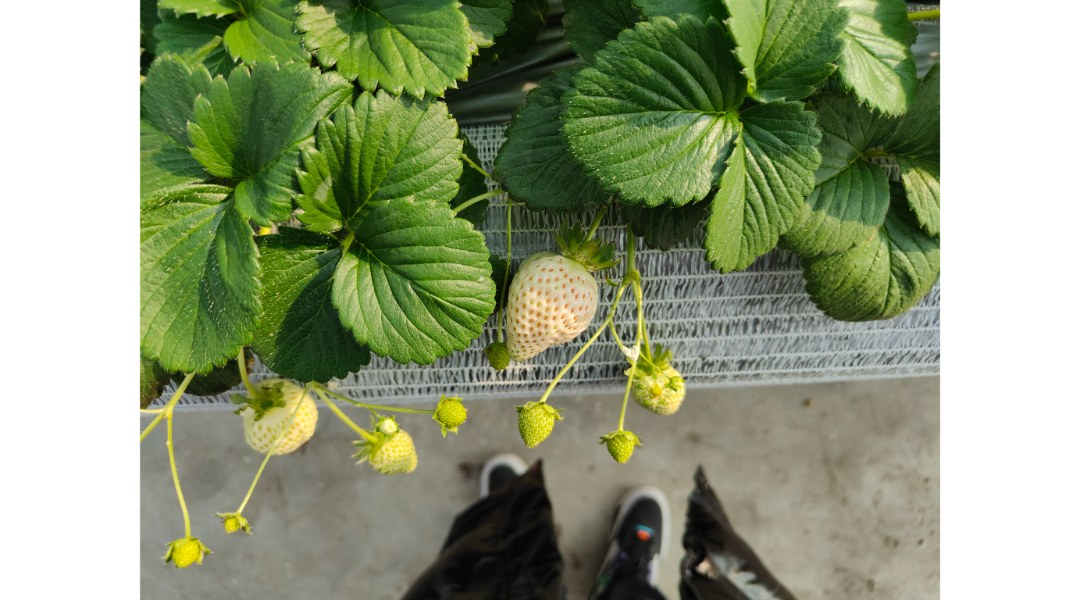berry: (507, 243, 601, 357), (235, 371, 319, 453), (353, 424, 433, 480), (626, 346, 688, 418), (514, 395, 557, 453), (165, 527, 204, 580), (600, 428, 645, 473), (430, 389, 468, 434), (214, 508, 250, 538), (482, 342, 512, 375)
strain: (538, 287, 625, 403), (616, 290, 645, 449), (329, 381, 421, 414), (317, 398, 370, 443), (170, 422, 188, 541), (166, 374, 194, 410), (236, 343, 249, 397)
